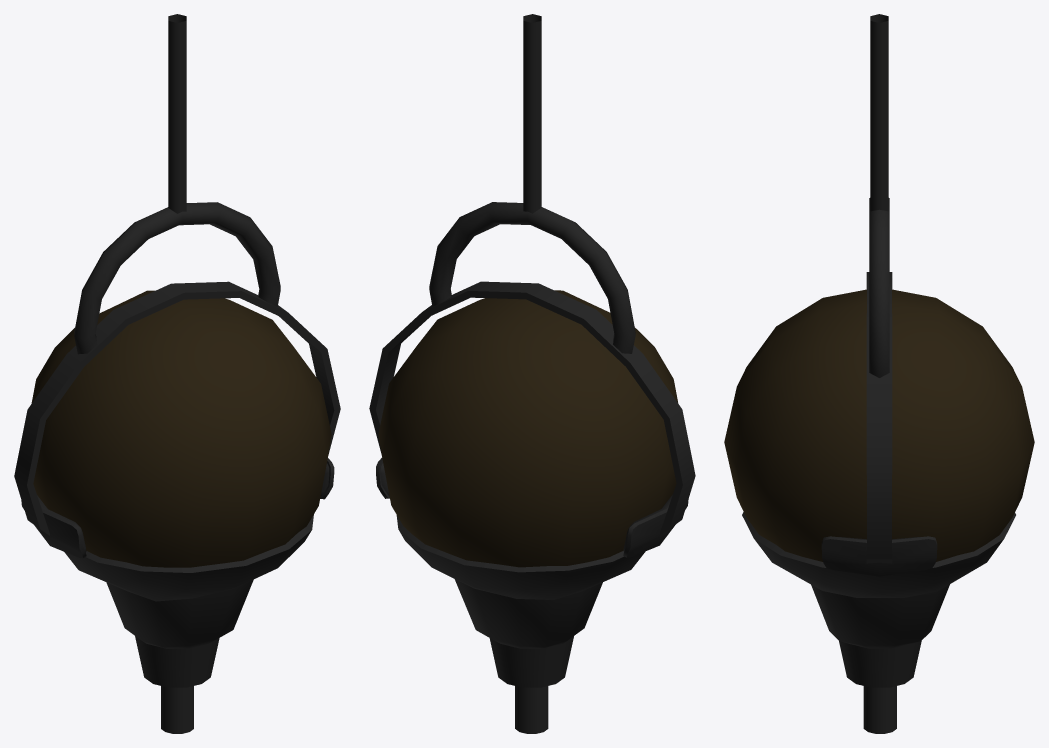
The model's file is SM_Dispenser.fbx.
3 views of the same model, side by side, from view 1: azimuth 30°, elevation 25°; view 2: azimuth 150°, elevation 25°; view 3: azimuth 270°, elevation 25° (orthographic).
Visible parts, largest first — view 1: SM_Dispenser; view 2: SM_Dispenser; view 3: SM_Dispenser.
Boxes of the visible parts, left/top/right/bottom form: SM_Dispenser: left=14, top=14, right=340, bottom=733; SM_Dispenser: left=369, top=14, right=695, bottom=733; SM_Dispenser: left=724, top=14, right=1034, bottom=733.
Size of the model in its own units: 102 by 87.32 by 220.
